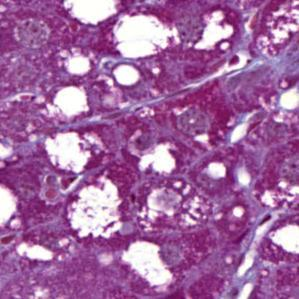steatosis: (111, 59, 142, 87)
